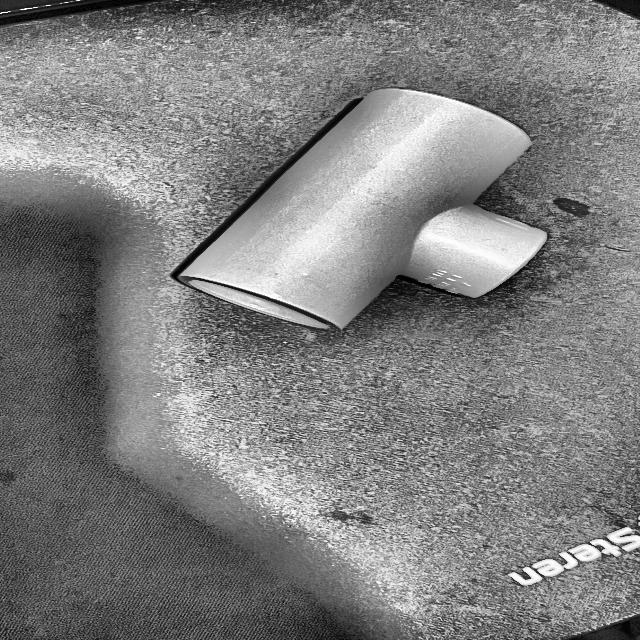EQUALTEE: (170, 89, 545, 332)
